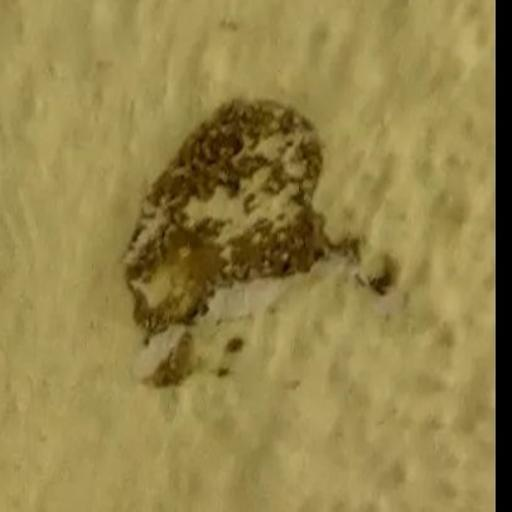stain: (94, 60, 412, 430)
